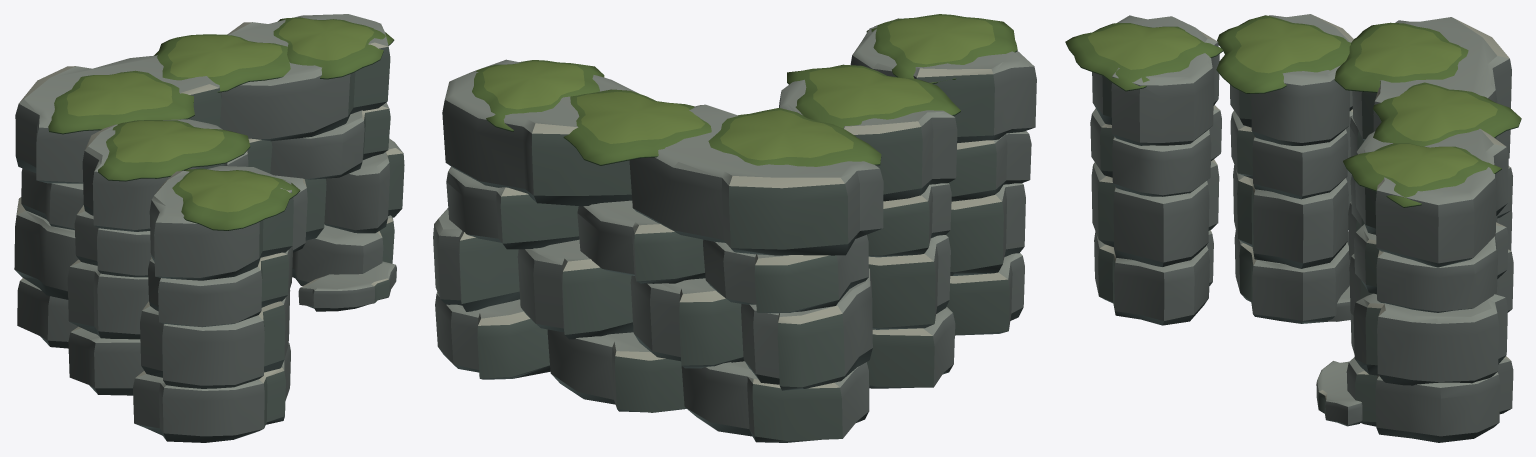
File: fw_cliff_corner.hi.glb
3 views of the same model, side by side, from view 1: azimuth 30°, elevation 25°; view 2: azimuth 150°, elevation 25°; view 3: azimuth 270°, elevation 25° (orthographic). The views are drawn at different scales.
Parts seen in each view (by area): view 1: body; view 2: body; view 3: body.
Part boxes in pixels (x1=…): body: x1=14, y1=14, x2=404, y2=442; body: x1=433, y1=14, x2=1036, y2=442; body: x1=1065, y1=14, x2=1521, y2=442.
Size of the model in its own units: 3.44 by 2.08 by 3.38.
